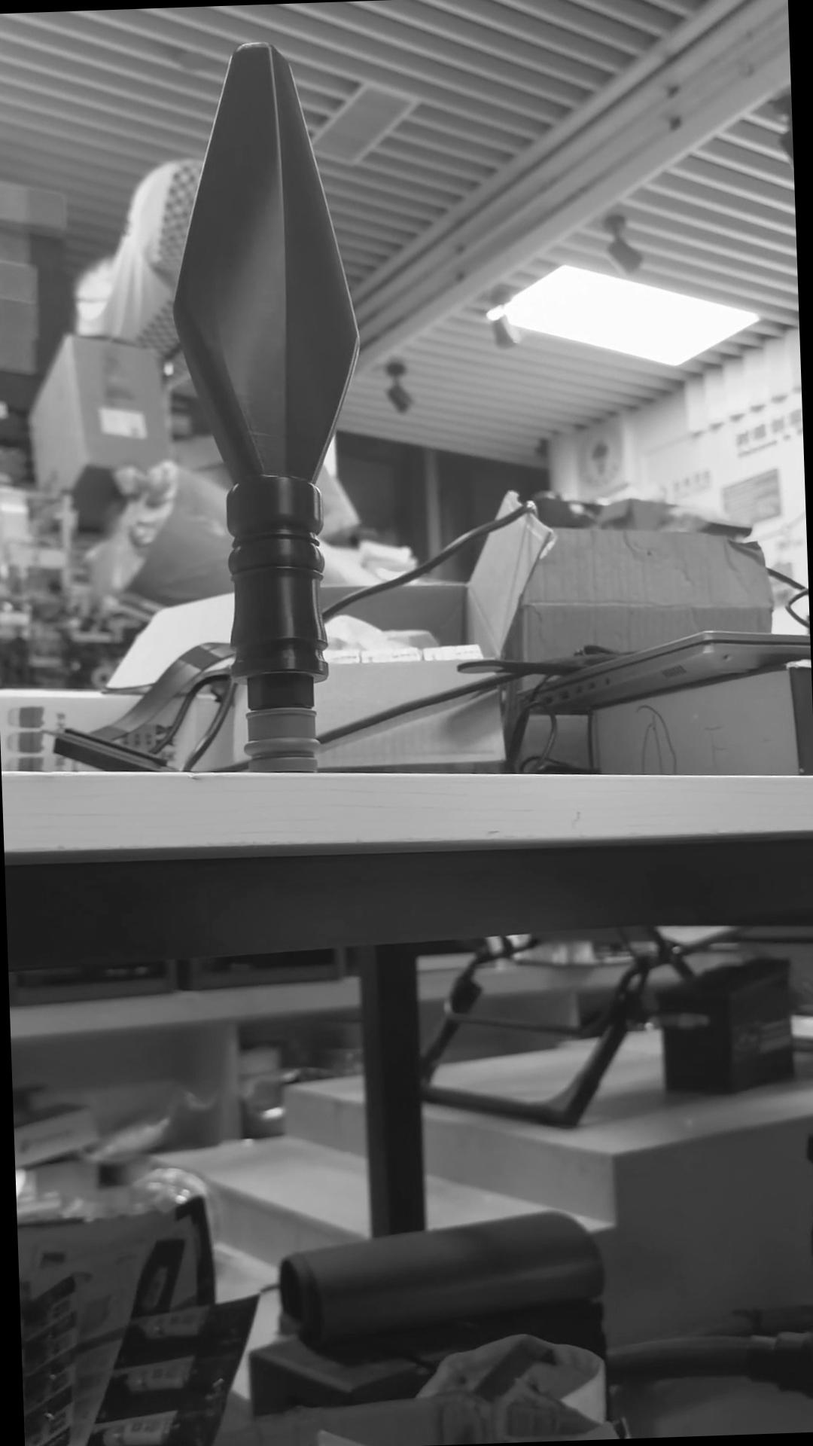base: (242, 701, 318, 771)
